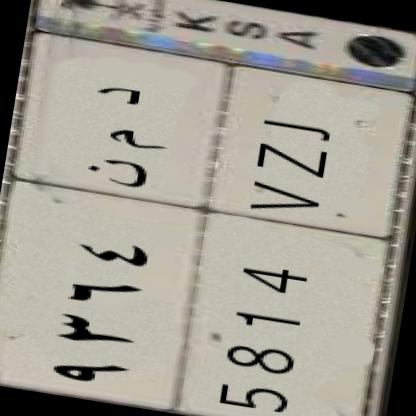english: (150, 52, 415, 416)
